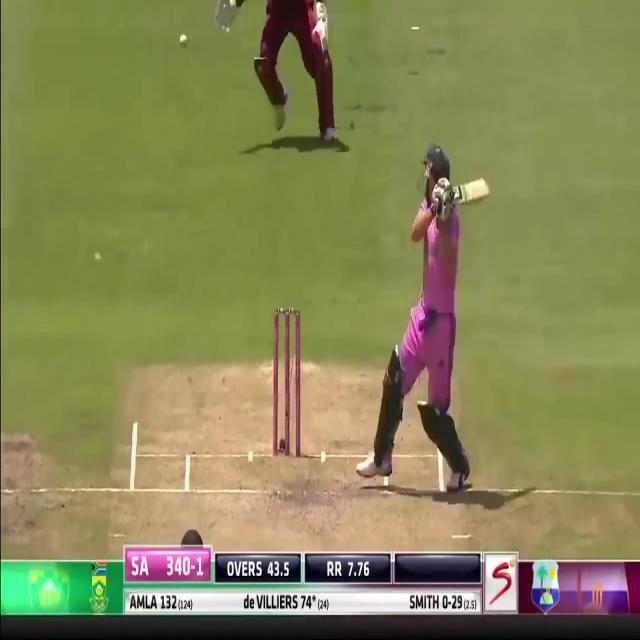Ball: (369, 138, 475, 491)
Fielder: (211, 0, 343, 150)
